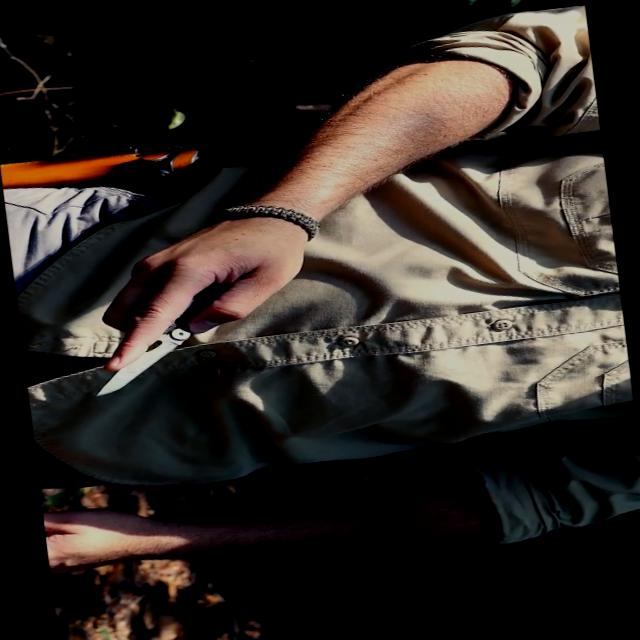knife: (68, 230, 281, 402)
